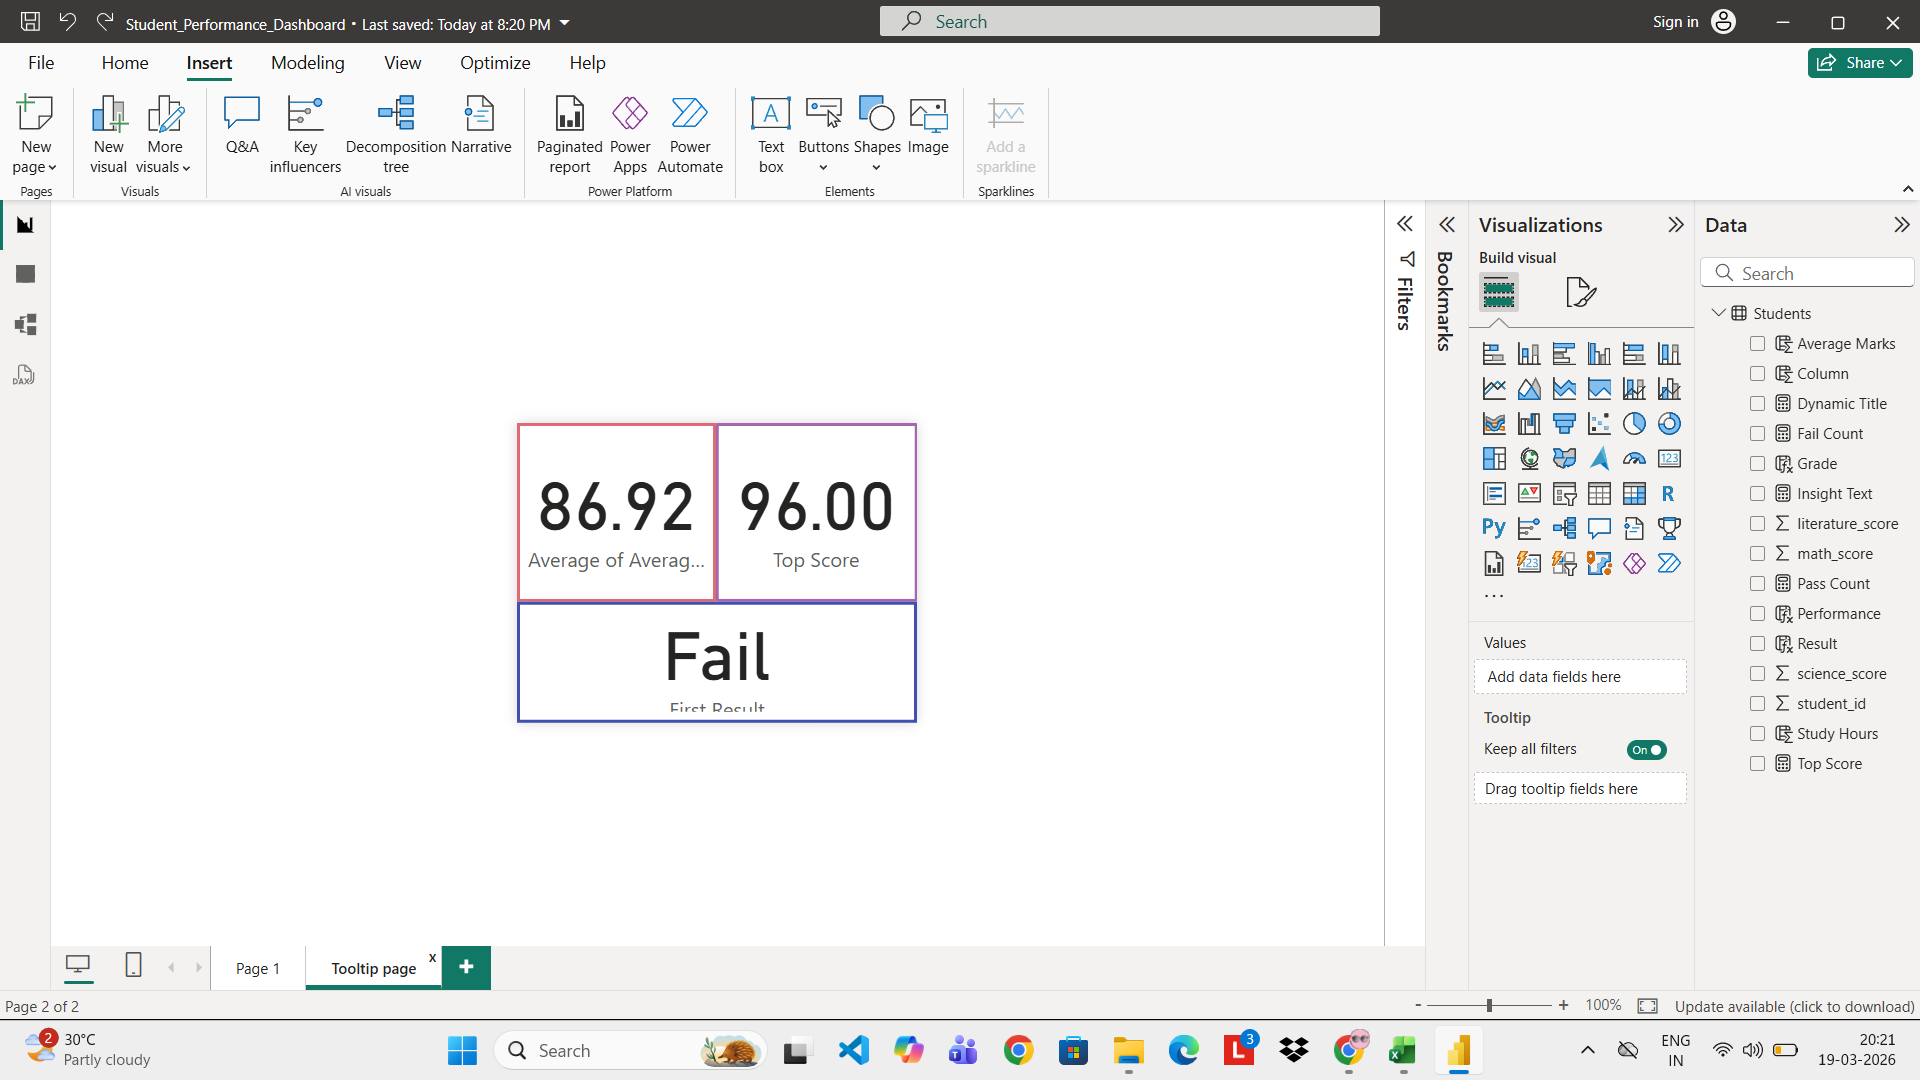

The page's visual inventory and layout, read from the dashboard file:
{"tool":"powerbi","page":{"name":"Tooltip page","canvas":[320,240],"ordinal":1},"visuals":[{"type":"card","fields":{"Values":["Avg(Students.Average Marks)"]},"box":[0,0,159,143],"z":0},{"type":"card","fields":{"Values":["Students.Top Score"]},"box":[159,0,161,143],"z":1000},{"type":"card","fields":{"Values":["Min(Students.Result)"]},"box":[0,143,320,97],"z":2000}]}

Visuals, with their boxes on the page's 320x240 design canvas (x1, y1, x2, y2). These are canvas units, not pixel positions in the 1920x1080 screenshot, which may show the page scaled, cropped or inside an application window:
card - Avg(Students.Average Marks): (left=0, top=0, right=159, bottom=143)
card - Students.Top Score: (left=159, top=0, right=320, bottom=143)
card - Min(Students.Result): (left=0, top=143, right=320, bottom=240)
